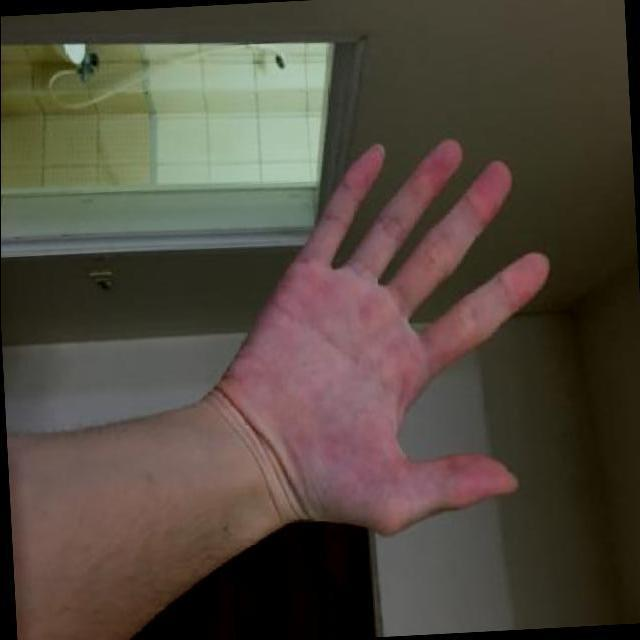hand: (197, 135, 553, 555)
